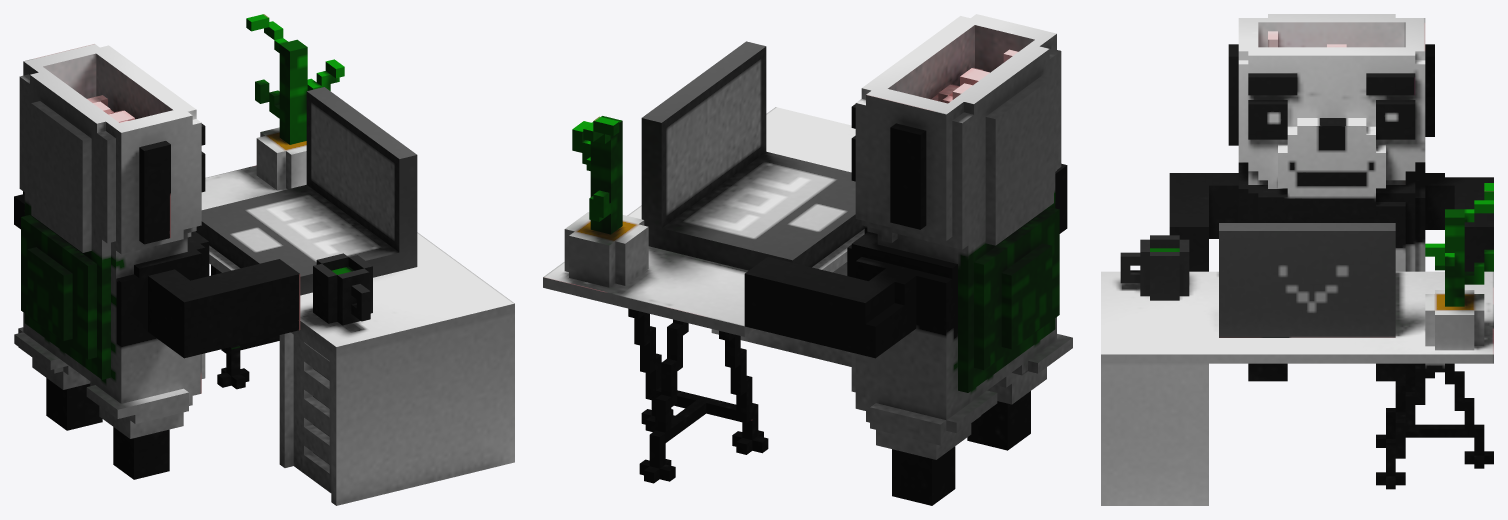
Rendered from panda.glb.
3 renders of one model, left to right at view 1: azimuth 30°, elevation 25°; view 2: azimuth 150°, elevation 25°; view 3: azimuth 270°, elevation 25°, orthographic. The views are drawn at different scales.
Visible parts, largest first — view 1: pandawobrain; view 2: pandawobrain; view 3: pandawobrain.
Part boxes in pixels (<box>): pandawobrain: <box>14,14,514,505</box>; pandawobrain: <box>543,14,1072,505</box>; pandawobrain: <box>1101,14,1493,505</box>.
Size of what is drawn, in the model's own units: 3.9 by 3.8 by 4.
2 materials, 2 textured.
